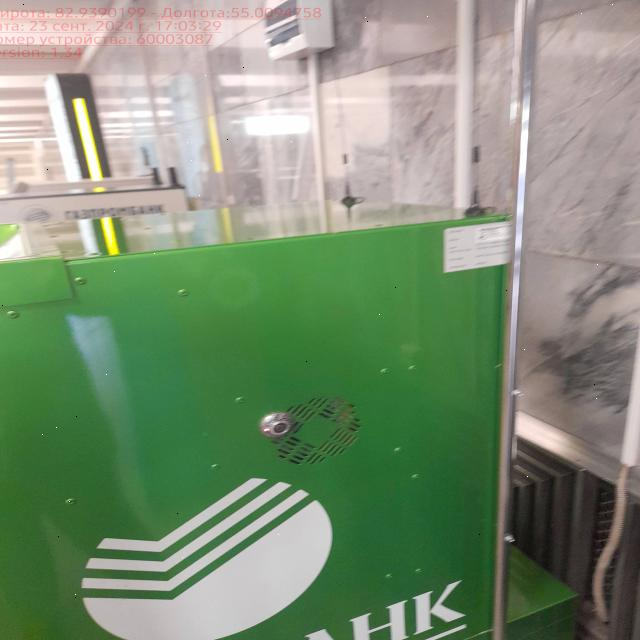bank: (0, 177, 517, 640)
